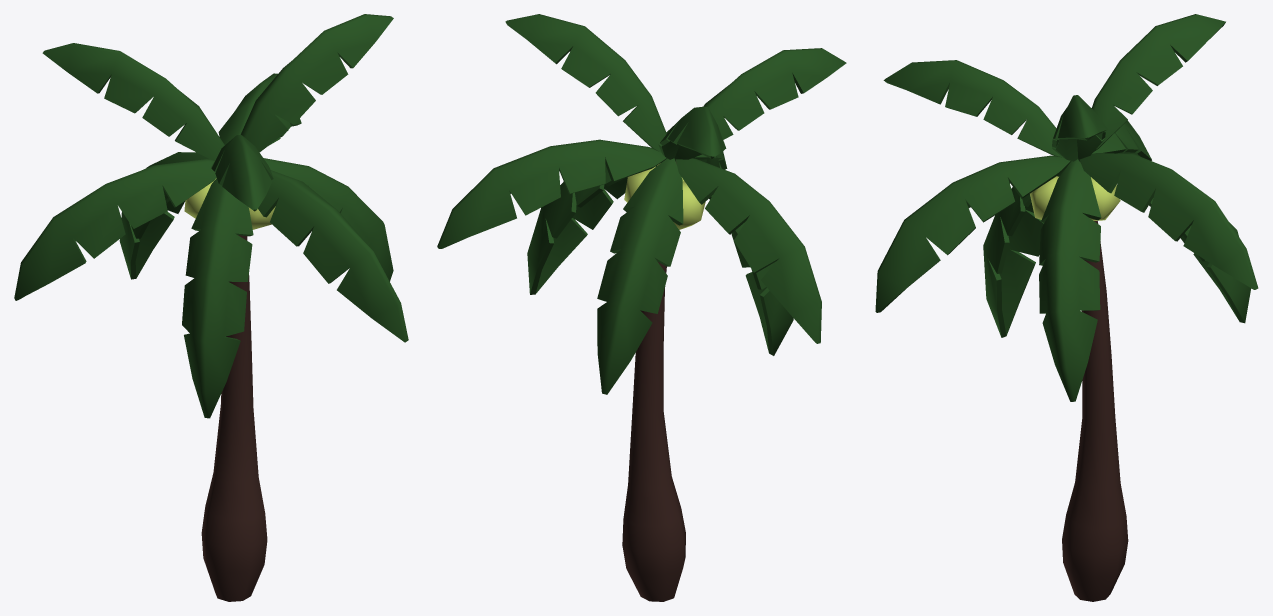
3 views of the same model, side by side, from view 1: azimuth 30°, elevation 25°; view 2: azimuth 150°, elevation 25°; view 3: azimuth 270°, elevation 25° (orthographic).
Visible parts, largest first — view 1: palm_001; view 2: palm_001; view 3: palm_001.
Part boxes in pixels (x1,y1,x2,y2): palm_001: [14, 14, 408, 601]; palm_001: [437, 14, 846, 601]; palm_001: [875, 14, 1258, 601].
Bounding box in the file's own units: 7.86 × 11.93 × 7.62.
